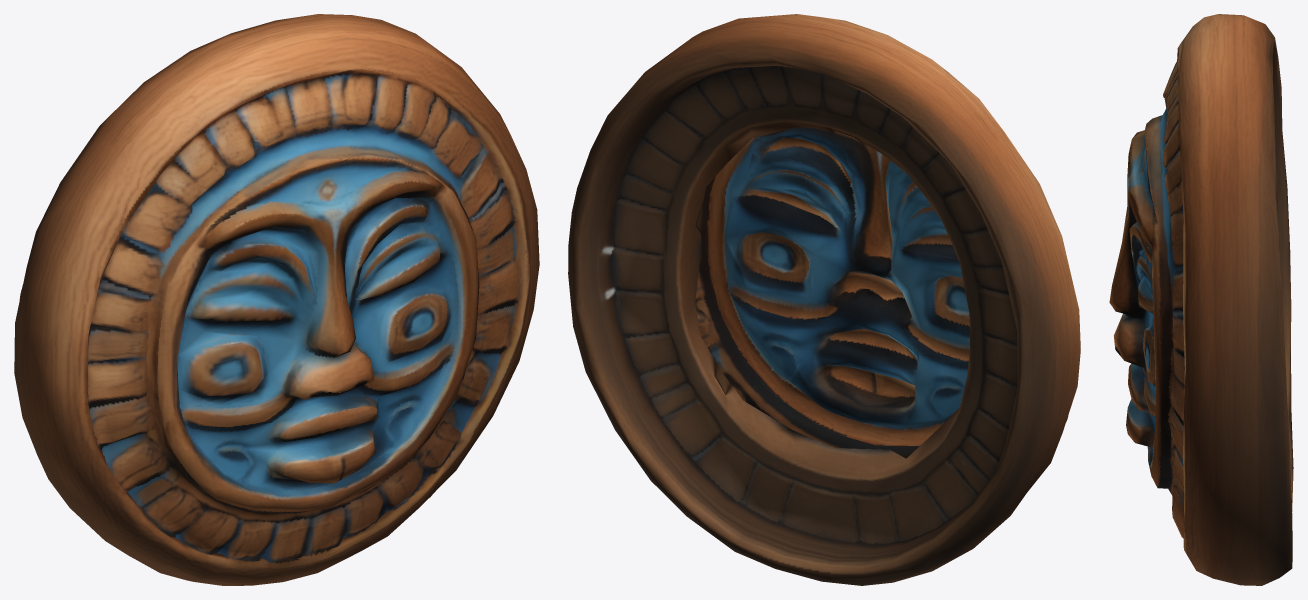
The model's file is totem_healing.glb.
3 views of the same model, side by side, from view 1: azimuth 30°, elevation 25°; view 2: azimuth 150°, elevation 25°; view 3: azimuth 270°, elevation 25° (orthographic). The views are drawn at different scales.
Parts seen in each view (by area): view 1: geometry_0; view 2: geometry_0; view 3: geometry_0.
Boxes of the visible parts, x1,y1,x2,y2 form: geometry_0: (14, 14, 539, 585); geometry_0: (568, 14, 1080, 585); geometry_0: (1109, 14, 1293, 585).
Bounding box in the file's own units: 0.9494 × 0.9973 × 0.3201.
Materials: 1 (1 with a texture image).
